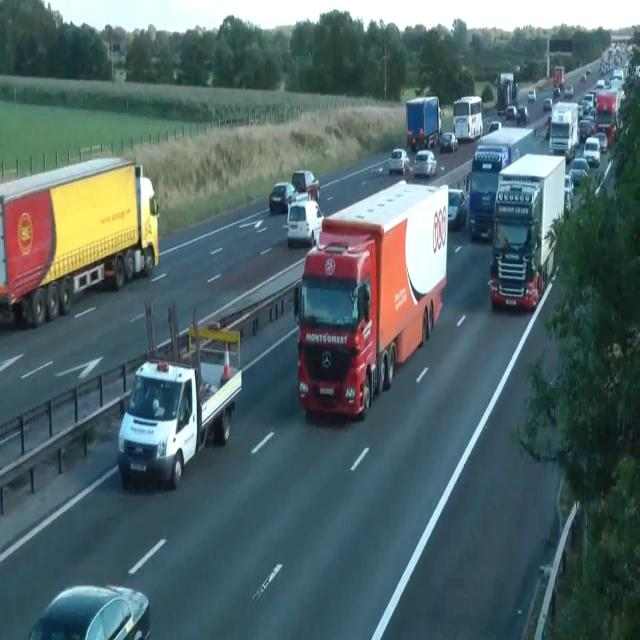bus: (28, 583, 150, 639), (269, 182, 296, 214), (448, 188, 467, 230), (413, 149, 437, 177), (569, 156, 590, 186), (388, 148, 410, 174), (564, 173, 574, 216), (439, 131, 458, 153), (578, 118, 592, 142), (594, 131, 608, 153), (517, 105, 529, 124), (487, 120, 502, 133), (505, 105, 517, 120), (545, 115, 551, 138), (542, 97, 552, 110), (564, 84, 574, 97), (528, 88, 536, 101), (553, 85, 561, 96), (580, 73, 586, 83), (586, 68, 591, 74)
jeep: (284, 198, 324, 247), (292, 169, 320, 199)
minibus: (293, 178, 449, 420), (0, 156, 160, 328), (116, 306, 242, 490), (488, 152, 566, 311), (468, 125, 535, 242), (406, 95, 442, 151), (548, 100, 580, 162), (594, 90, 618, 148), (453, 95, 483, 141), (494, 72, 518, 115), (551, 65, 565, 92)
